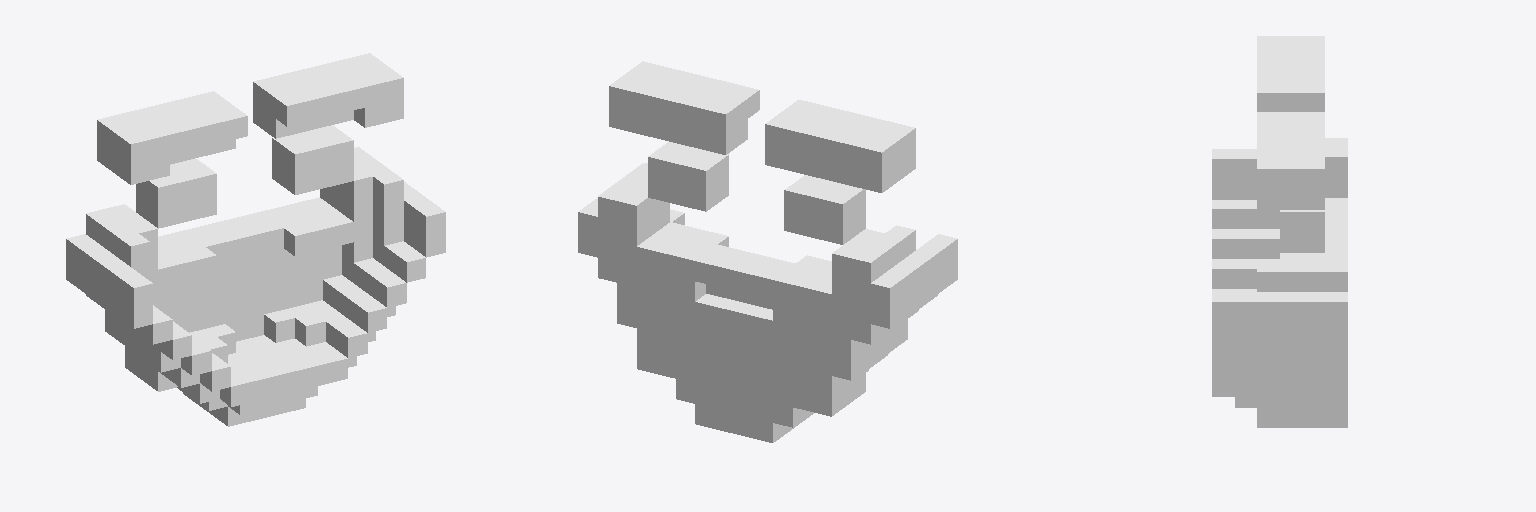
File: Character-9-Face.obj
3 views of the same model, side by side, from view 1: azimuth 30°, elevation 25°; view 2: azimuth 150°, elevation 25°; view 3: azimuth 270°, elevation 25° (orthographic).
Visible parts, largest first — view 1: Face; view 2: Face; view 3: Face.
Part boxes in pixels (left/top/right/bottom): Face: left=66, top=53, right=445, bottom=426; Face: left=578, top=61, right=957, bottom=442; Face: left=1212, top=36, right=1347, bottom=427.
Size of the model in its own units: 1.6 by 1.5 by 0.6.